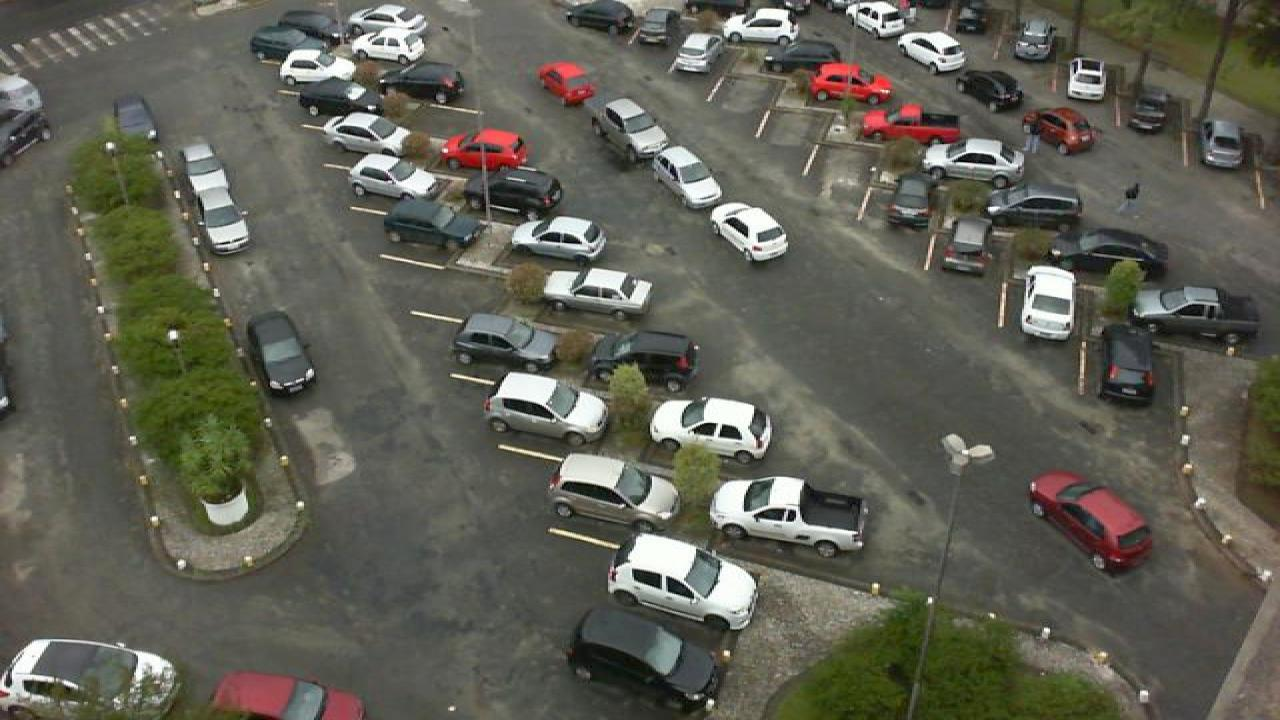Car: (566, 605, 722, 712), (0, 634, 182, 720), (606, 531, 758, 631), (708, 475, 870, 558), (1028, 469, 1156, 574), (546, 451, 682, 536), (482, 371, 608, 446), (648, 396, 774, 465), (208, 668, 372, 720), (1132, 282, 1264, 346), (588, 330, 702, 391), (450, 312, 558, 376), (542, 264, 654, 320), (1054, 226, 1168, 281), (246, 309, 318, 394), (380, 195, 478, 252), (590, 97, 670, 163), (708, 202, 792, 264), (986, 181, 1084, 231), (860, 102, 964, 148), (652, 144, 724, 209), (1096, 330, 1160, 402), (350, 153, 442, 203), (922, 138, 1026, 182), (508, 215, 608, 260), (322, 112, 418, 158), (480, 165, 564, 217), (1020, 264, 1076, 342), (438, 128, 528, 172), (378, 61, 466, 106), (196, 184, 252, 252), (806, 62, 894, 105), (1024, 107, 1096, 157), (180, 142, 236, 202), (296, 80, 382, 118), (940, 216, 996, 273), (278, 46, 360, 84), (898, 29, 968, 73), (720, 6, 800, 44), (880, 174, 936, 228), (350, 29, 430, 65), (758, 38, 842, 72), (956, 68, 1024, 109), (536, 61, 596, 107), (1198, 118, 1250, 171), (248, 22, 324, 58), (346, 3, 426, 35), (846, 0, 912, 38), (564, 0, 636, 33), (274, 8, 346, 40), (112, 94, 160, 140), (672, 32, 724, 72), (1130, 85, 1172, 134), (1066, 56, 1108, 102), (1012, 19, 1056, 62), (634, 6, 680, 44), (952, 0, 992, 33)
